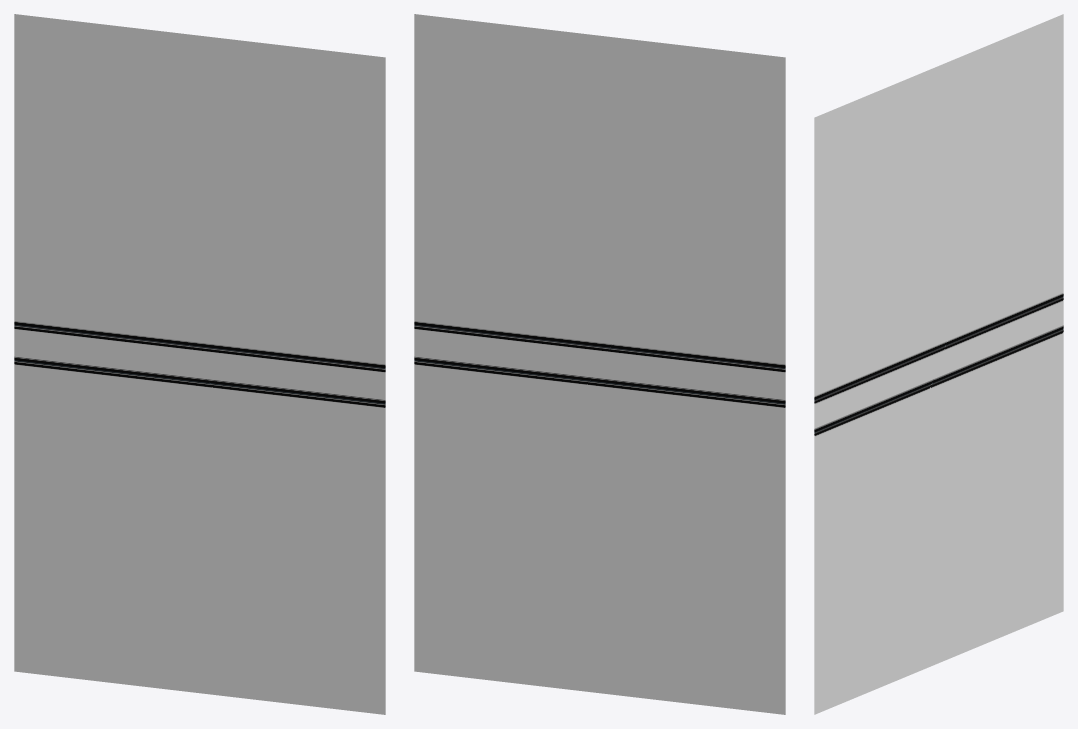
File: MeshDoor.fbx
The picture shows the model from 3 angles, left to right: view 1: azimuth 30°, elevation 25°; view 2: azimuth 210°, elevation 25°; view 3: azimuth 270°, elevation 25°; orthographic projection. The views are drawn at different scales.
Visible parts, largest first — view 1: meshDoor; view 2: meshDoor; view 3: meshDoor.
Boxes of the visible parts, x1=… form: meshDoor: x1=14, y1=14, x2=385, y2=714; meshDoor: x1=414, y1=14, x2=785, y2=714; meshDoor: x1=814, y1=14, x2=1063, y2=714.
Size of the model in its own units: 0.278 by 0.7471 by 0.2827.
1 material, 1 textured.
